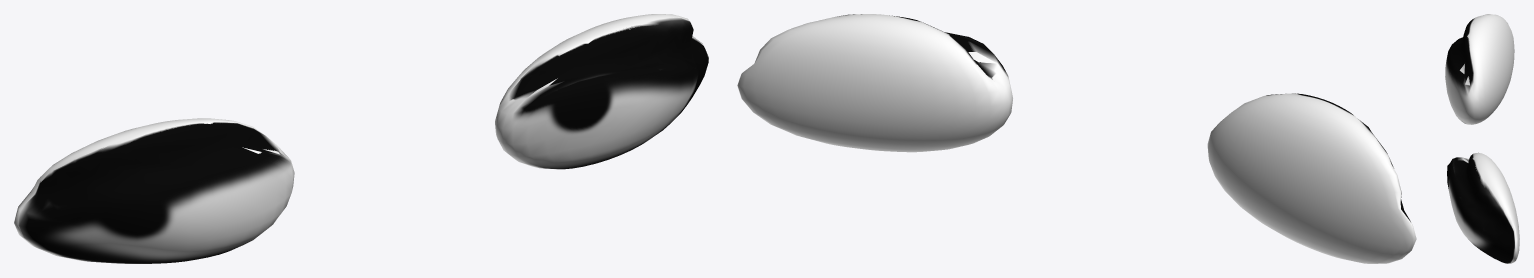
Rendered from Slick.glb.
3 renders of one model, left to right at view 1: azimuth 30°, elevation 25°; view 2: azimuth 150°, elevation 25°; view 3: azimuth 270°, elevation 25°, orthographic. The views are drawn at different scales.
Visible parts, largest first — view 1: Bored; view 2: Bored; view 3: Bored.
Part boxes in pixels (box(x1,y1,x2,y2)): Bored: box(14, 14, 708, 263); Bored: box(737, 14, 1416, 263); Bored: box(1445, 14, 1519, 263).
Bounding box in the file's own units: 0.3809 × 0.0766 × 0.0584.
2 materials, 2 textured.
